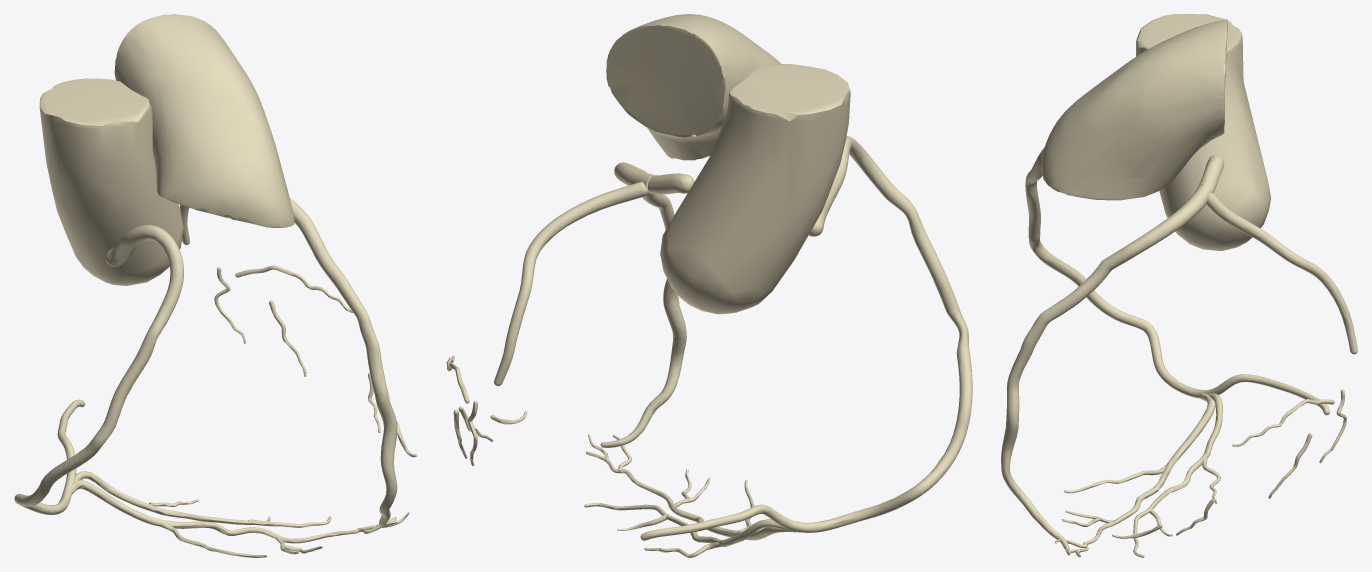
Rendered from bodyparts3d-heart-arterial.glb.
The picture shows the model from 3 angles, left to right: view 1: azimuth 30°, elevation 25°; view 2: azimuth 150°, elevation 25°; view 3: azimuth 270°, elevation 25°; orthographic projection. The views are drawn at different scales.
Visible parts, largest first — view 1: cardiac-fma8612, cardiac-fma3736, cardiac-fma3802, cardiac-fma3840, cardiac-fma74912, cardiac-fma3895; view 2: cardiac-fma3736, cardiac-fma8612, cardiac-fma3802, cardiac-fma3895, cardiac-fma3840, cardiac-fma74912, cardiac-fma3855; view 3: cardiac-fma8612, cardiac-fma3736, cardiac-fma74912, cardiac-fma3802, cardiac-fma3895, cardiac-fma3840, cardiac-fma3855.
Part boxes in pixels (x1,y1,x2,y2): cardiac-fma8612: [114, 14, 294, 227]; cardiac-fma3736: [39, 78, 183, 285]; cardiac-fma3802: [14, 225, 183, 514]; cardiac-fma3840: [71, 471, 409, 557]; cardiac-fma74912: [290, 198, 397, 527]; cardiac-fma3895: [179, 204, 417, 457]; cardiac-fma3736: [660, 64, 850, 314]; cardiac-fma8612: [606, 14, 781, 160]; cardiac-fma3802: [640, 136, 972, 540]; cardiac-fma3895: [446, 181, 648, 465]; cardiac-fma3840: [584, 434, 801, 557]; cardiac-fma74912: [600, 162, 686, 447]; cardiac-fma3855: [647, 173, 694, 194]; cardiac-fma8612: [1041, 19, 1227, 200]; cardiac-fma3736: [1136, 14, 1271, 250]; cardiac-fma74912: [1001, 185, 1211, 550]; cardiac-fma3802: [1025, 147, 1329, 415]; cardiac-fma3895: [1112, 193, 1357, 538]; cardiac-fma3840: [1054, 393, 1222, 557]; cardiac-fma3855: [1198, 155, 1224, 193].
Size of the model in its own units: 0.0986 by 0.1187 by 0.081.
